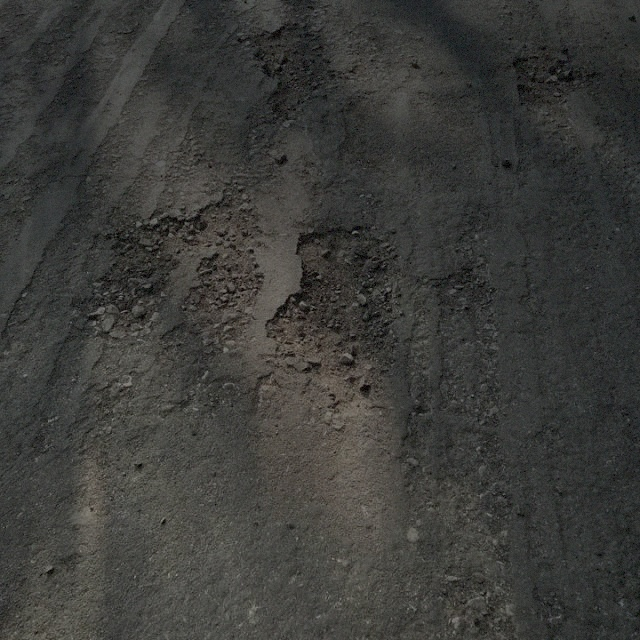pothole: (262, 221, 406, 415), (83, 212, 190, 332), (181, 196, 266, 340), (242, 23, 338, 124), (508, 52, 598, 111)
